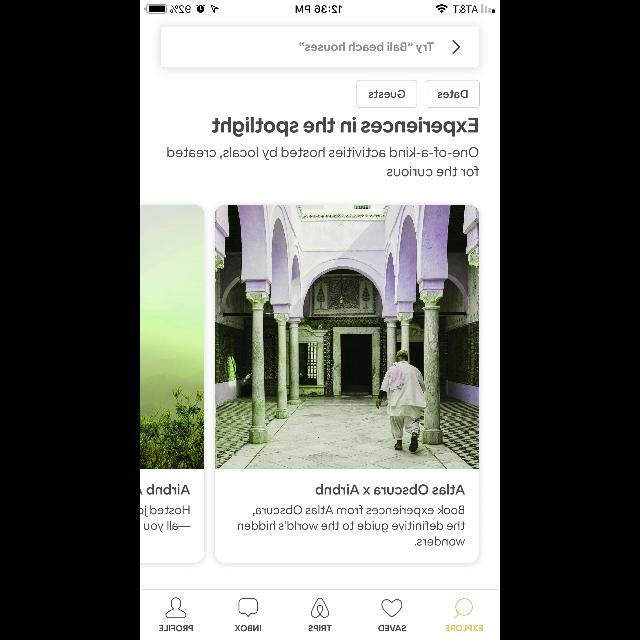icon: (166, 598, 187, 618), (238, 598, 258, 618), (454, 598, 472, 618), (382, 599, 402, 617), (311, 598, 329, 618), (452, 40, 460, 54)
image: (215, 205, 479, 469), (140, 205, 204, 469)
input: (160, 27, 480, 68)
text: (167, 147, 478, 177), (238, 506, 464, 546), (212, 117, 478, 137), (300, 42, 434, 54), (316, 484, 464, 494), (141, 505, 191, 533), (140, 484, 190, 494), (446, 625, 482, 631), (160, 625, 192, 631), (378, 625, 406, 631), (235, 625, 261, 631), (308, 625, 332, 631)
textbutton: (357, 80, 417, 108), (426, 80, 480, 108)
uppertaskbar: (140, 0, 500, 14)
